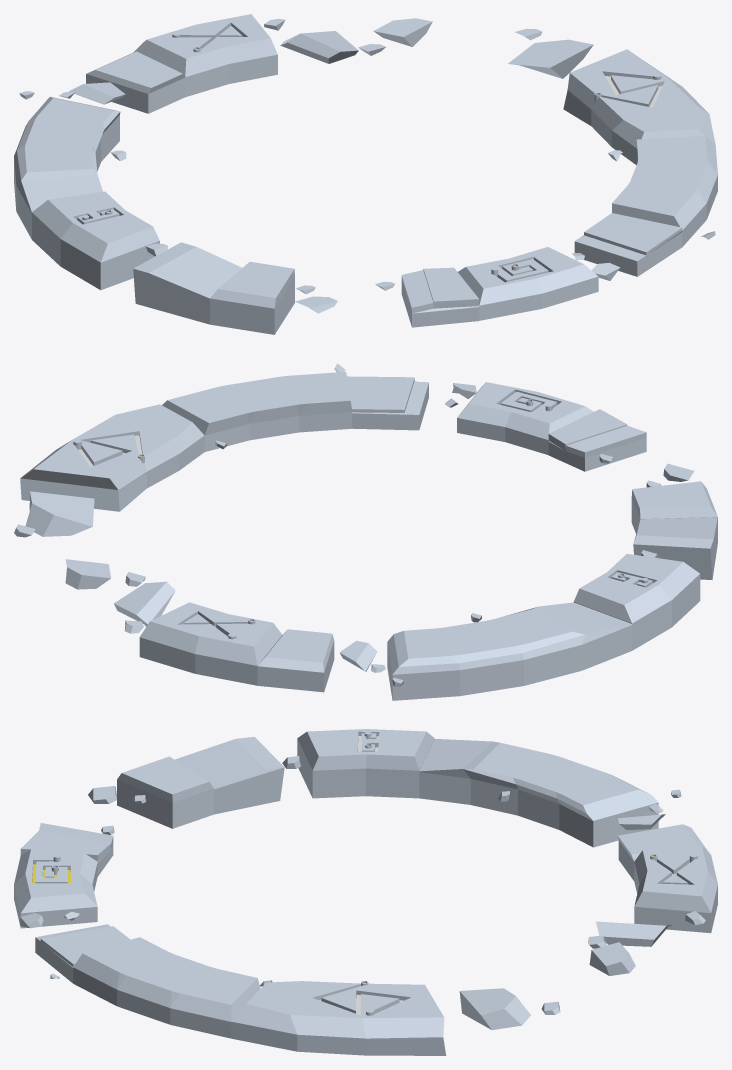
Rendered from Pool.fbx.
The picture shows the model from 3 angles, top to bottom: view 1: azimuth 30°, elevation 25°; view 2: azimuth 150°, elevation 25°; view 3: azimuth 270°, elevation 25°; orthographic projection.
Parts seen in each view (by area): view 1: Cylinder; view 2: Cylinder; view 3: Cylinder.
Part boxes in pixels (box(x1,y1,x2,y2)): Cylinder: box(14, 14, 717, 334); Cylinder: box(14, 363, 717, 700); Cylinder: box(14, 729, 717, 1055).
Bounding box in the file's own units: 4183 × 284 × 4106.
